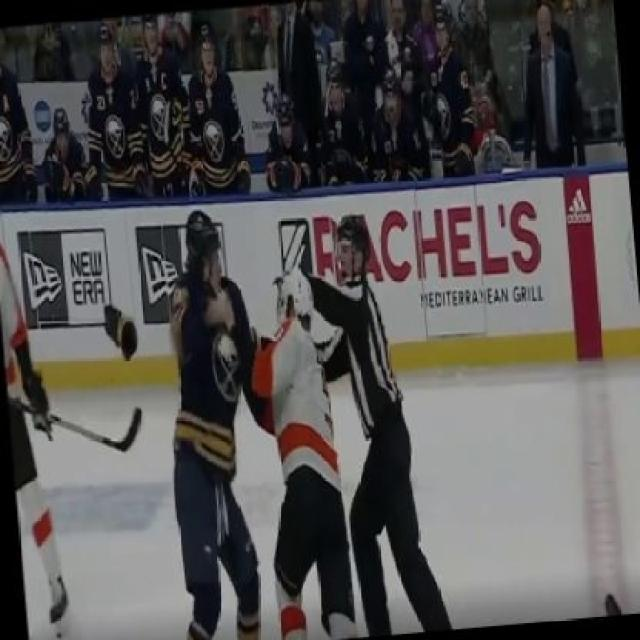fight: (140, 197, 454, 638)
